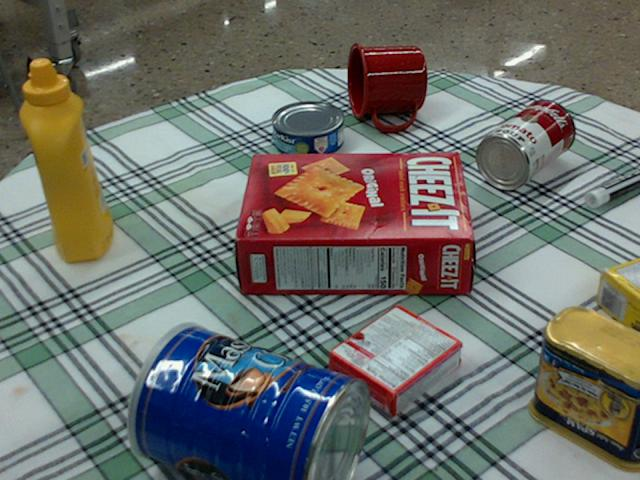cracker_box: (234, 151, 470, 296)
gelatin_box: (328, 305, 463, 412)
large_marker: (584, 170, 639, 206)
master_chef_can: (125, 325, 369, 479)
mug: (345, 41, 427, 130)
mustard_bottle: (20, 58, 112, 261)
potted_meat_can: (529, 303, 639, 467)
sugar_box: (598, 260, 639, 341)
tomato_soup_can: (475, 99, 574, 188)
tuna_fish_can: (271, 101, 343, 157)
